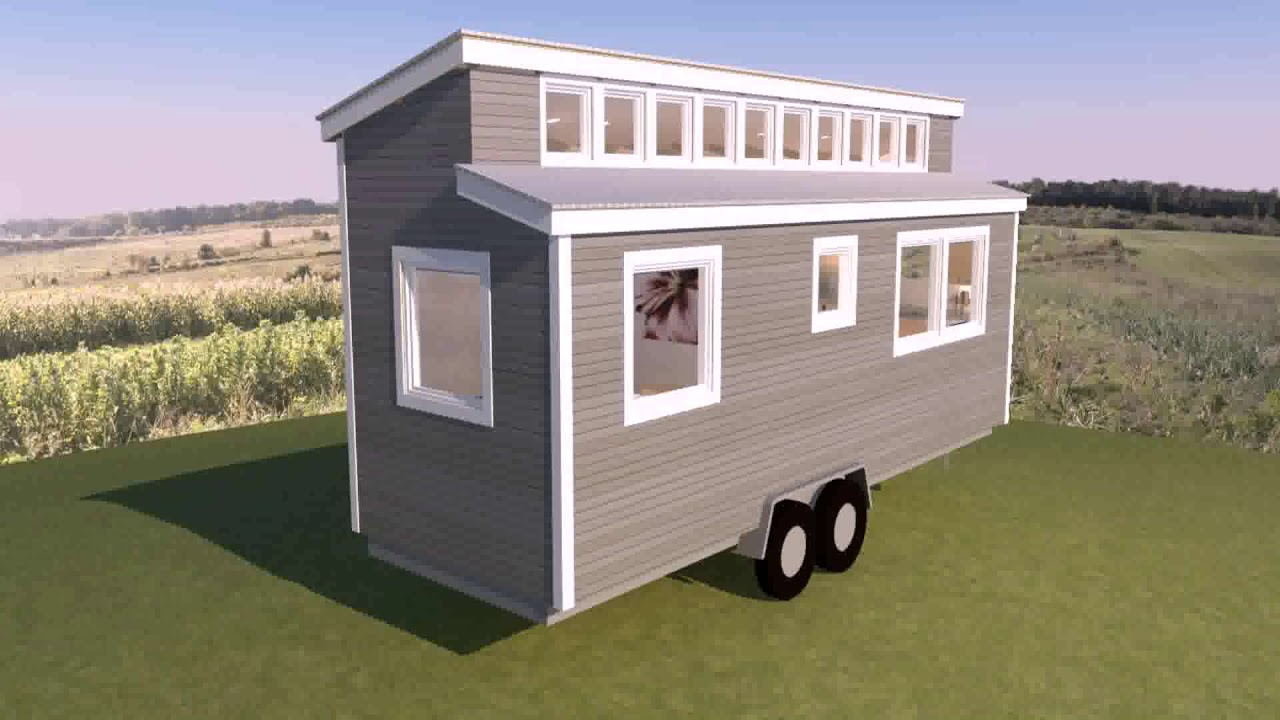Tin-shade House: (294, 25, 1046, 576)
